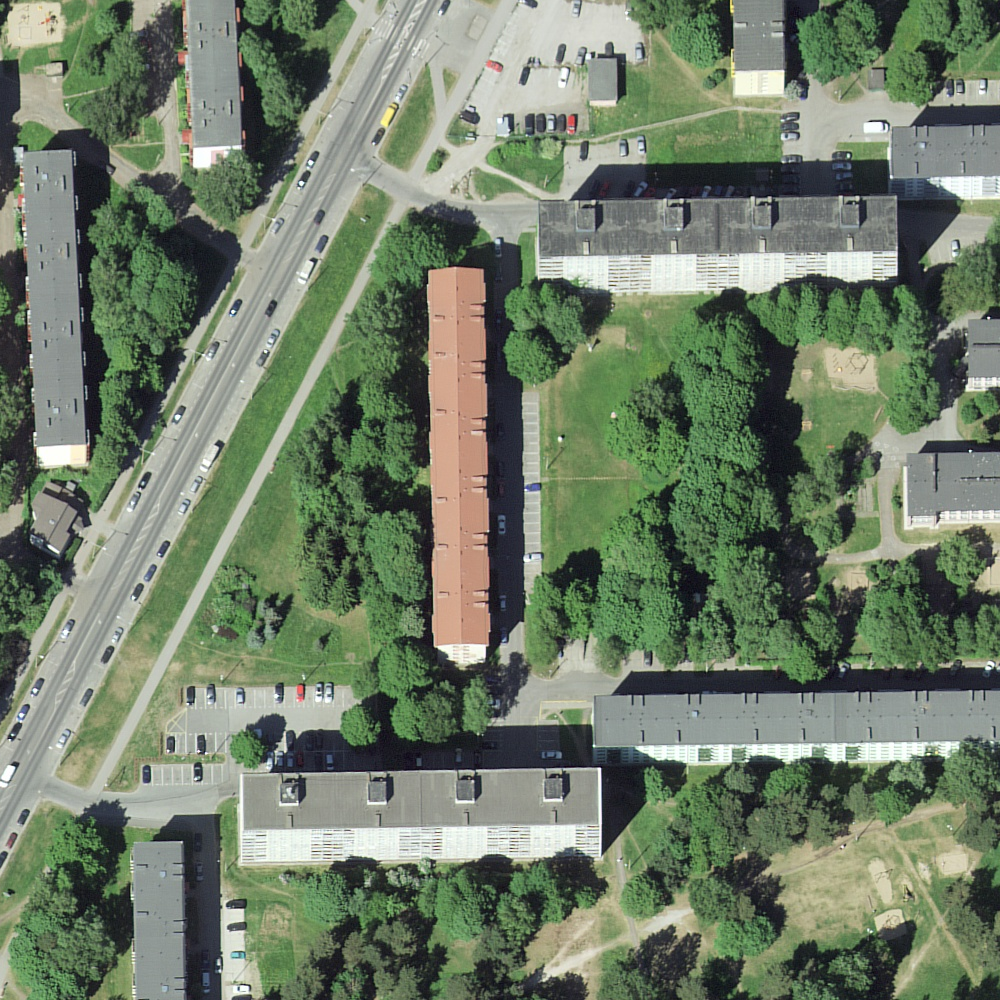building: (595, 688, 1000, 747), (540, 197, 899, 260), (430, 266, 489, 649), (242, 768, 604, 830), (20, 153, 88, 446), (133, 840, 189, 997), (187, 1, 242, 148), (906, 452, 1000, 517), (889, 125, 999, 179), (29, 481, 86, 552), (733, 1, 784, 72), (966, 319, 999, 377), (587, 59, 619, 101)
